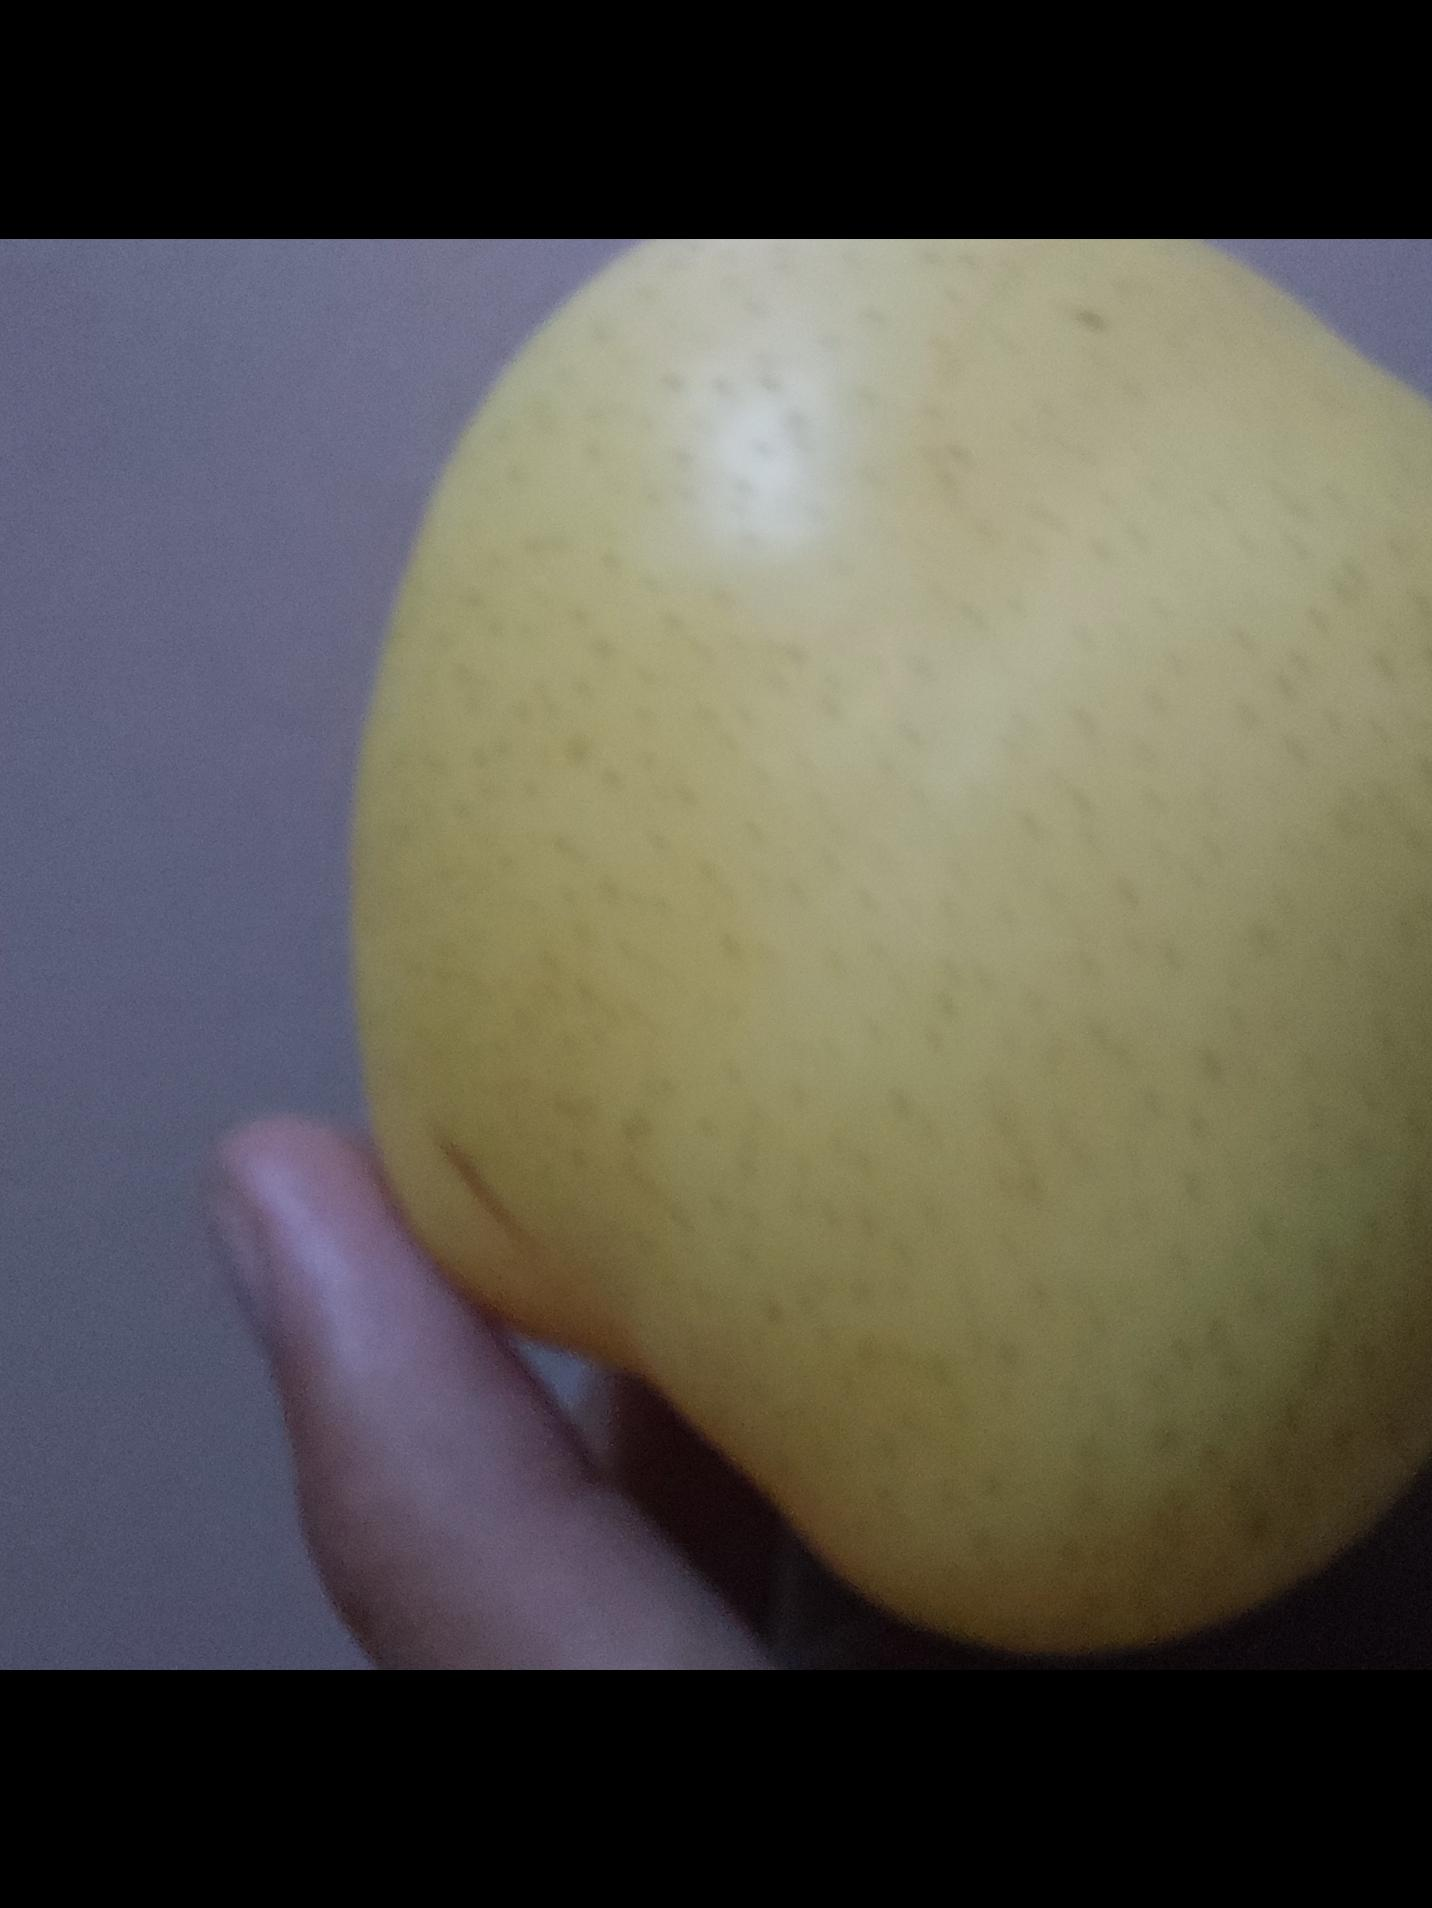Good Pear: (353, 238, 1432, 1655)
